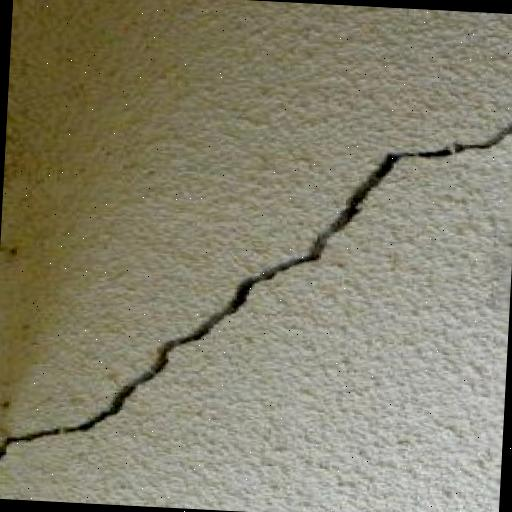spalling: (4, 112, 512, 477)
